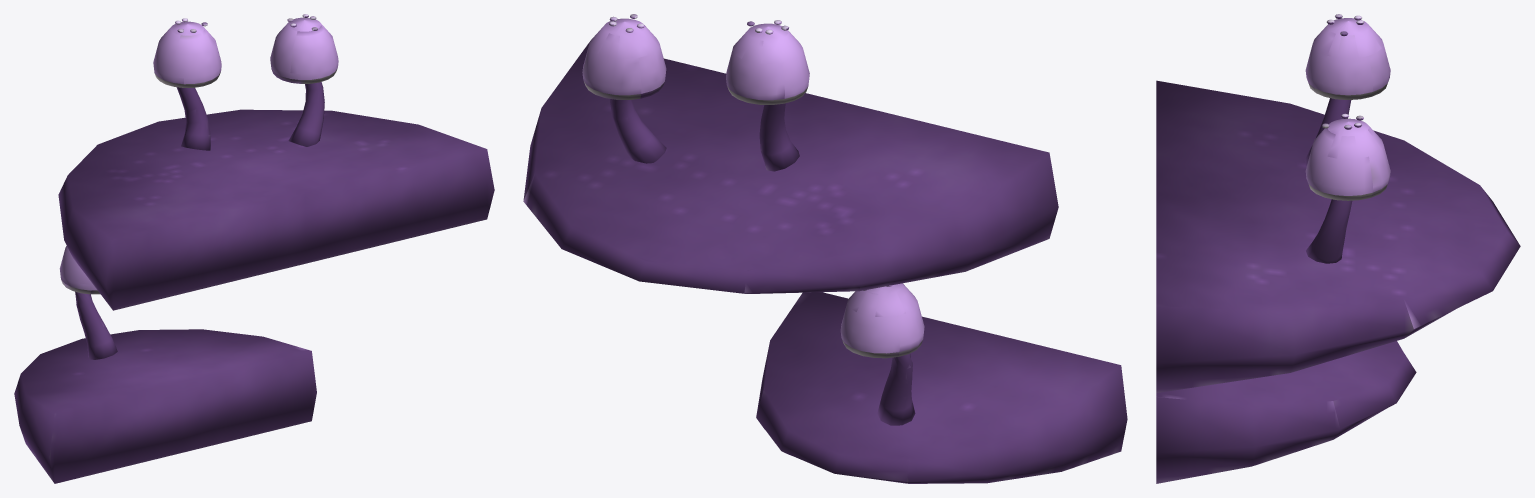
Rendered from glow_bracket.obj.
3 renders of one model, left to right at view 1: azimuth 30°, elevation 25°; view 2: azimuth 150°, elevation 25°; view 3: azimuth 270°, elevation 25°, orthographic. The views are drawn at different scales.
Visible parts, largest first — view 1: part0, fire, part2; view 2: part0, fire, part2; view 3: part0, fire, part2.
Part boxes in pixels (bbox=[...]): part0: bbox=[14, 82, 494, 483]; fire: bbox=[59, 14, 338, 290]; part2: bbox=[61, 68, 337, 294]; part0: bbox=[523, 42, 1127, 483]; fire: bbox=[582, 14, 924, 353]; part2: bbox=[584, 81, 922, 358]; part0: bbox=[1156, 80, 1520, 483]; fire: bbox=[1305, 14, 1390, 195]; part2: bbox=[1308, 83, 1387, 200].
Bounding box in the file's own units: 0.7616 × 0.5773 × 0.4368.
